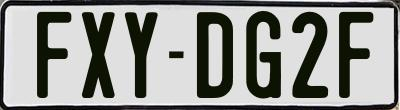2: (291, 9, 329, 101)
D: (197, 12, 238, 99)
F: (35, 10, 70, 99), (336, 12, 371, 101)
G: (244, 8, 279, 101)
X: (79, 12, 113, 98)
Y: (123, 11, 162, 100)
